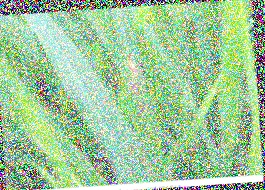Brown_Spot: (126, 48, 139, 92), (135, 97, 147, 117)
